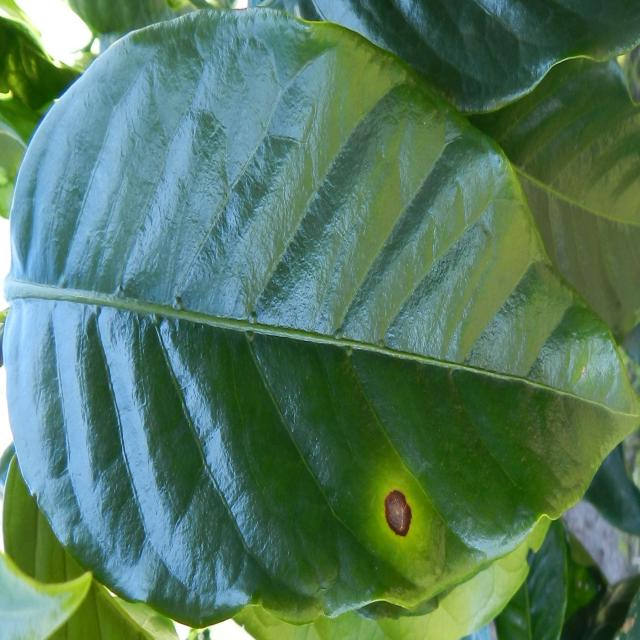Enfermedad-Mancha-de-hierro: (9, 10, 640, 628)
